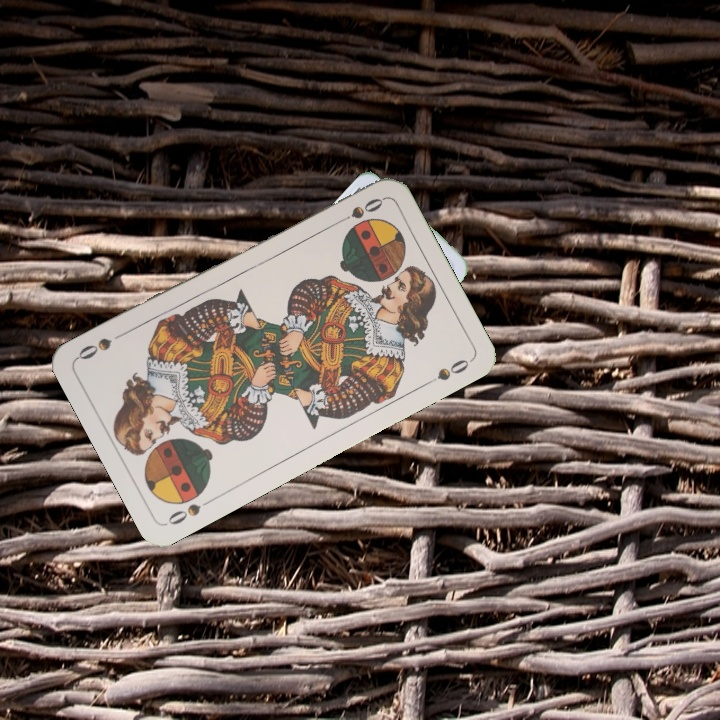SO: (330, 193, 386, 228), (163, 494, 217, 528)
